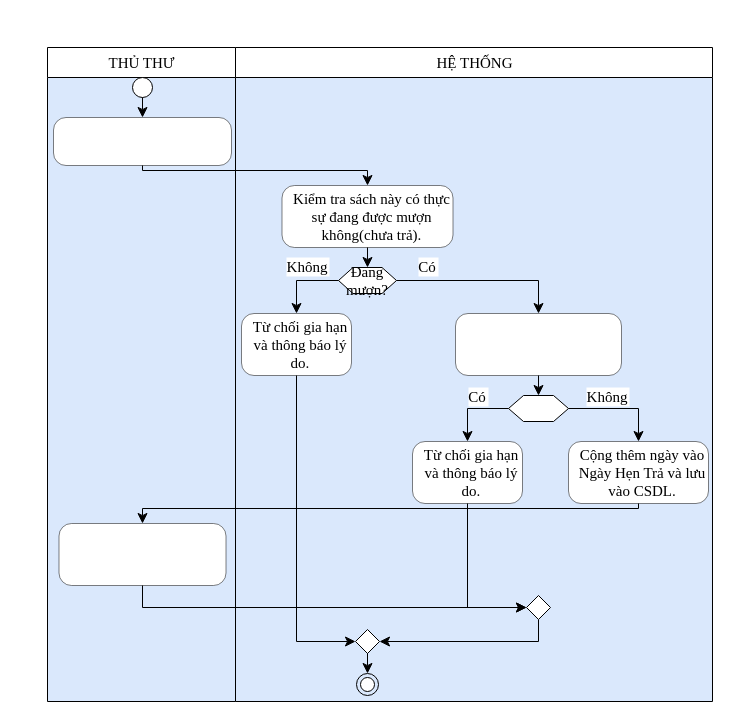
This 730x719 diagram has some shape labels left out. Here are the shapes that lost their labels. From the top down, the centre of each, then its label:
the point at 142,141: Tìm kiếm phiếu mượn và chọn đầu sách cần gia hạn.
the point at 538,344: Kiểm tra sách có đang bị quá hạn trả không (Ngày hiện tại > Ngày hẹn trả).
the point at 538,408: Bị quá hạn?
the point at 142,554: Nhận thông báo thành công và báo ngày trả mới cho độc giả.
